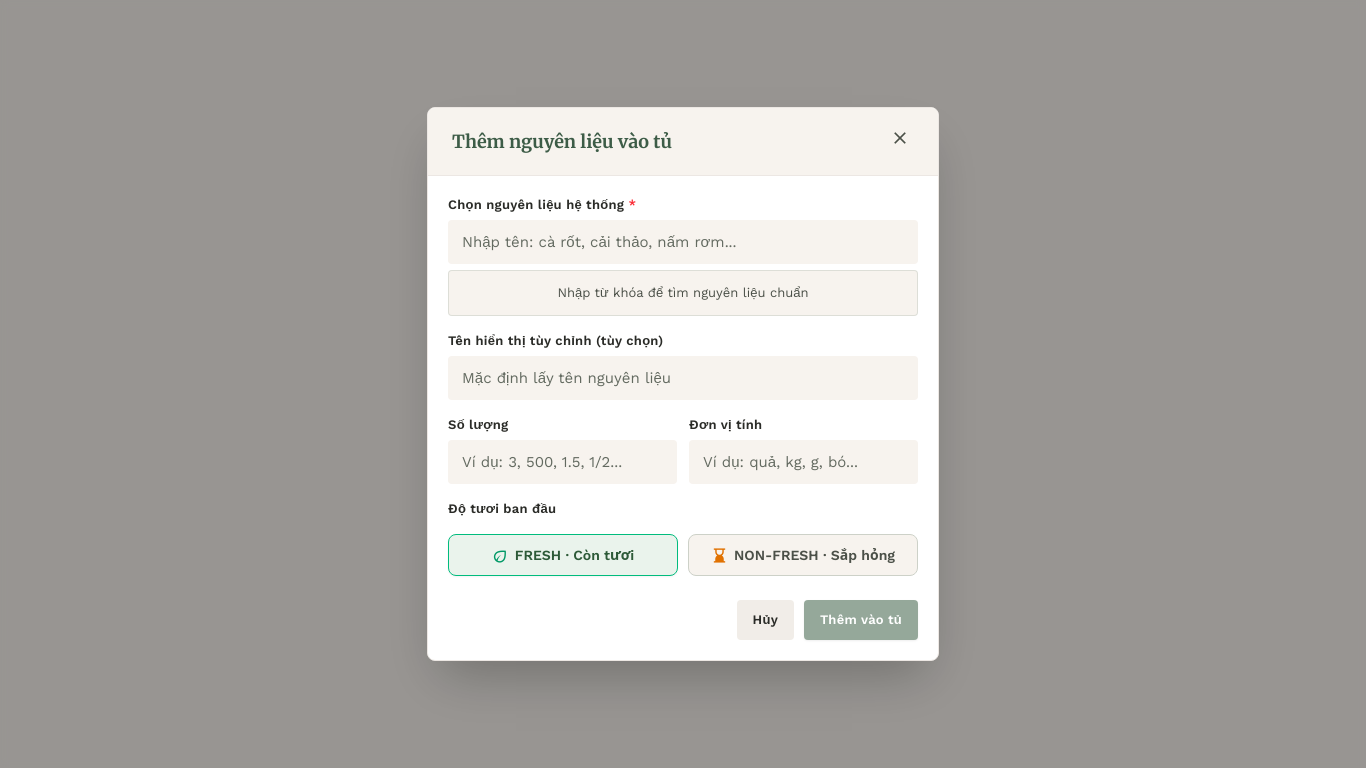
AddItemModal: gợi ý nguyên liệu › chưa nhập hoặc đã xóa từ khóa: hiện lời nhắc, không báo đang tìm và không gọi API
expect the text "Nhập từ khóa để tìm nguyên liệu chuẩn" is shown: met, box [557,285,808,300]
In the field labelled "Chọn nguyên liệu hệ thống *": (683, 242) [448,220,918,264], type "cà"
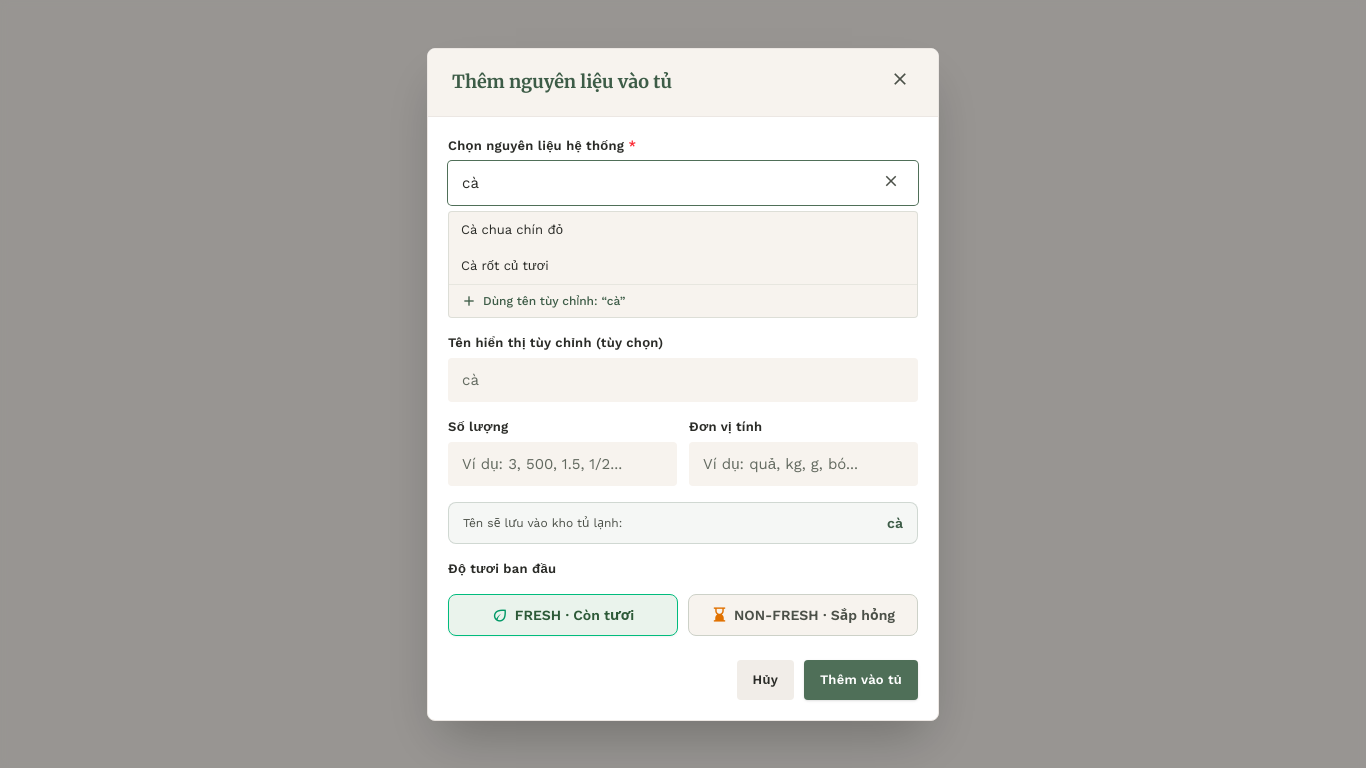
expect the option "Cà rốt củ tươi" is shown: met, box [449,248,917,284]
Clear the field labelled "Chọn nguyên liệu hệ thống *": (683, 182) [448,160,918,204]
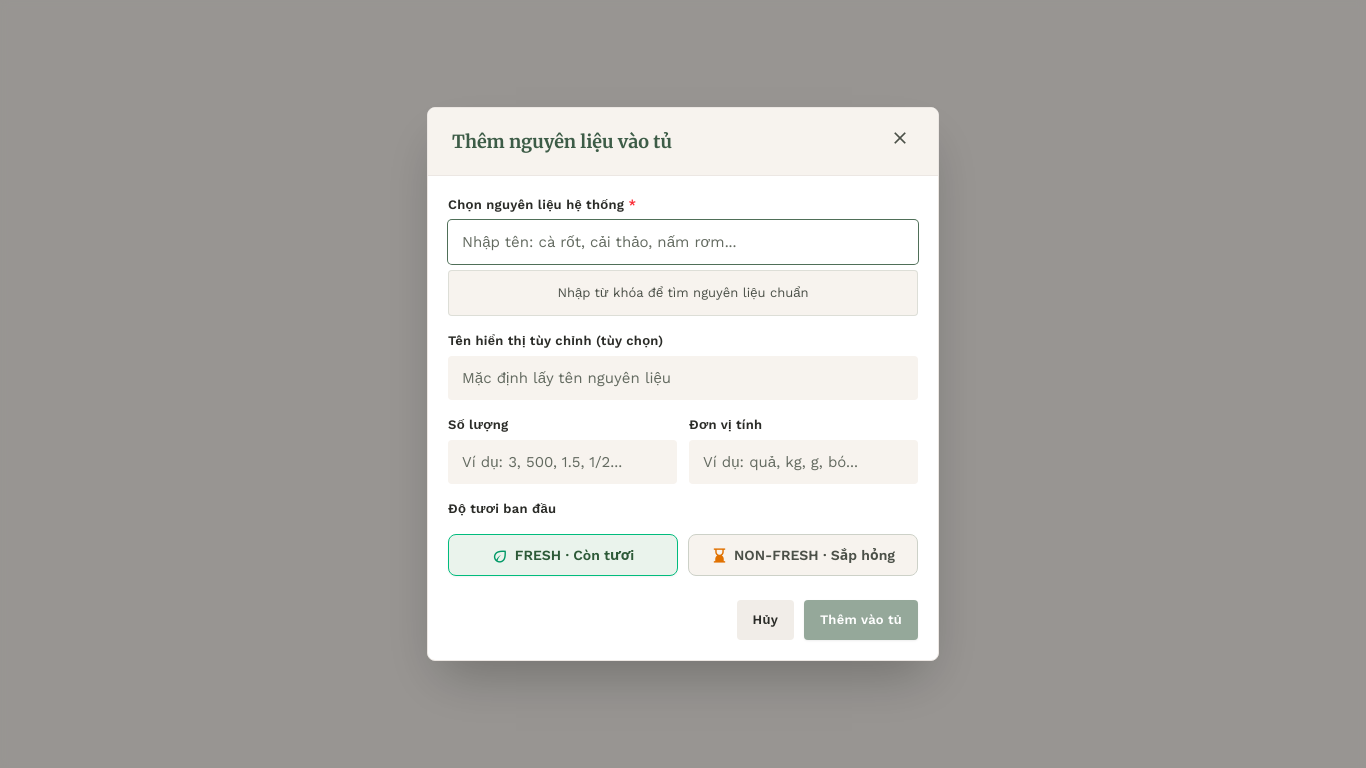
expect the text "Nhập từ khóa để tìm nguyên liệu chuẩn" is shown: met, box [557,285,808,300]
expect no options are shown: met
